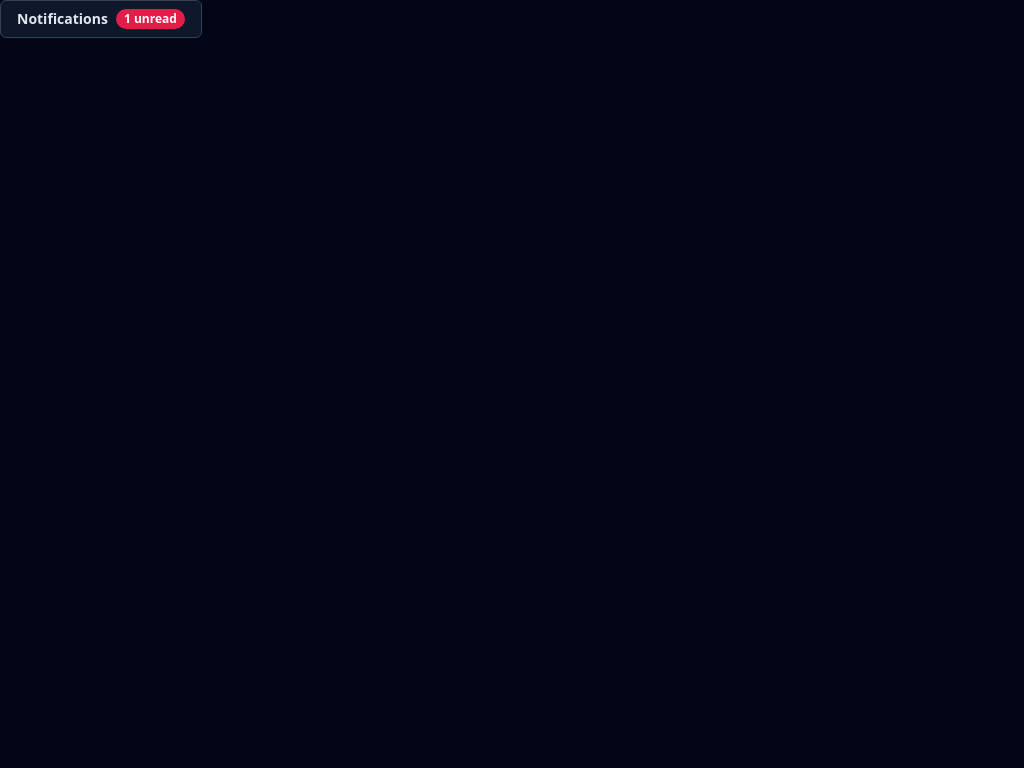
Scenario: NotificationBell › shows unread count and opens the notification list
The image size is (1024, 768).
Expected: the text "1 unread" is shown, [116,9,185,29]
Step 1. Click the button "Notifications 1 unread" → (101, 19), box [0,0,202,38]
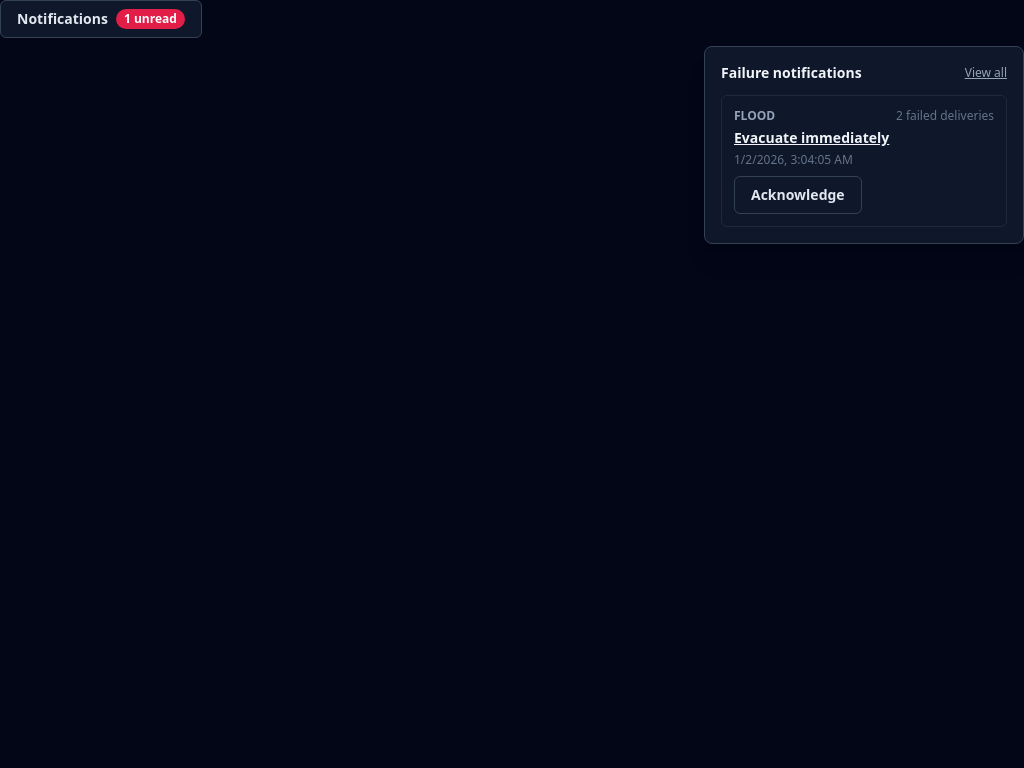
Now the link "Evacuate immediately" is shown, box [734,128,889,147]
Now the text "2 failed deliveries" is shown, box [896,108,994,124]
